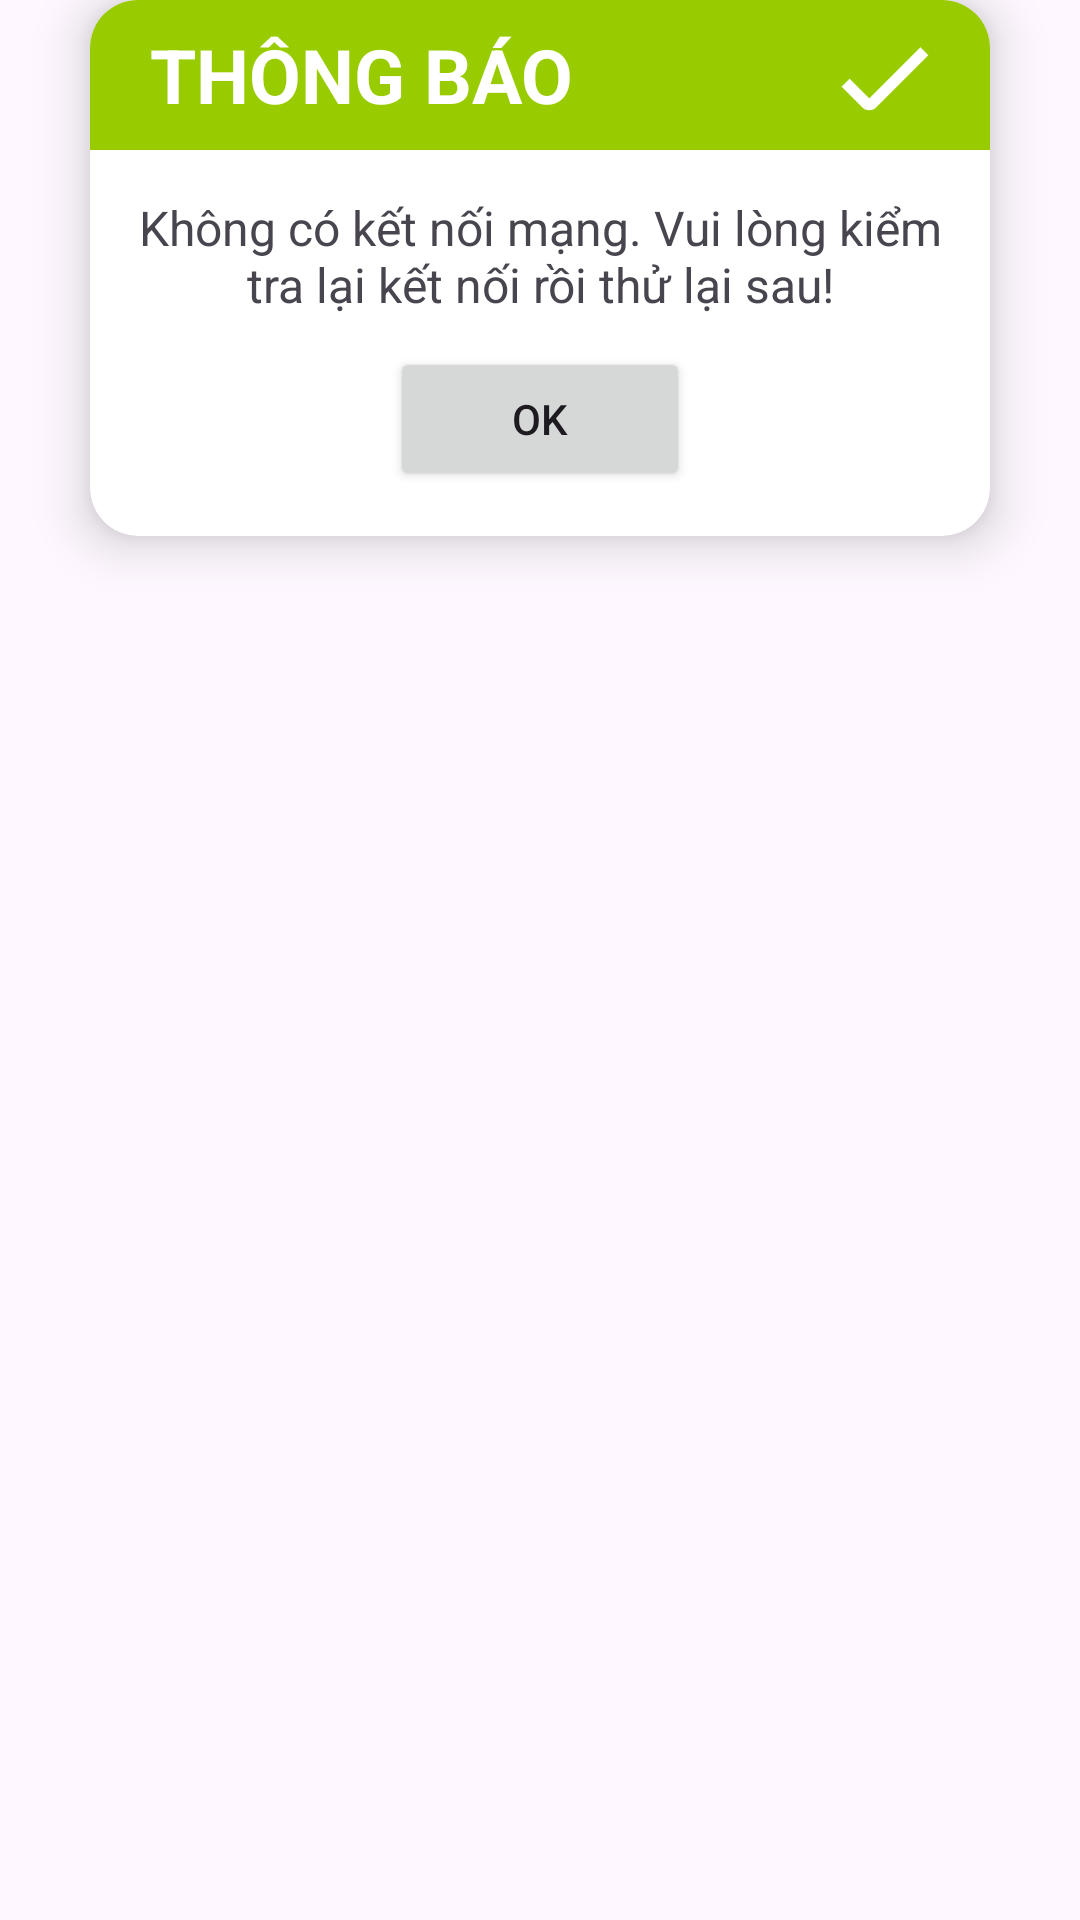

Point at icon controls on the screen. Image size 1080 × 1920, points as point (x, y).
check: point (885, 79)
